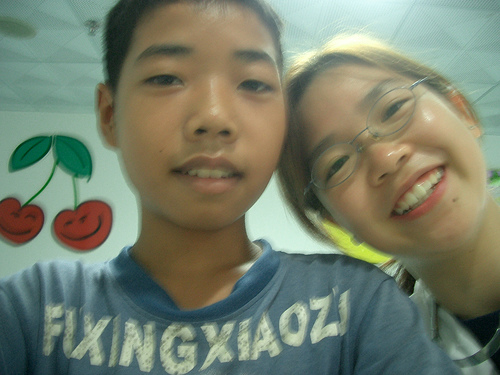without_mask: (94, 9, 292, 237), (294, 63, 494, 259)
